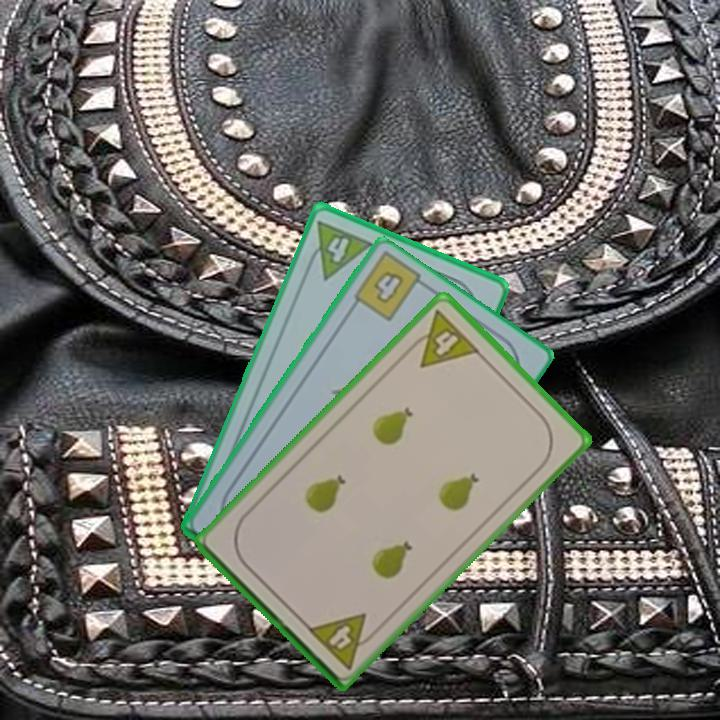4b: (369, 266, 407, 307)
4p: (402, 305, 483, 371), (303, 609, 382, 672), (301, 217, 376, 283)
